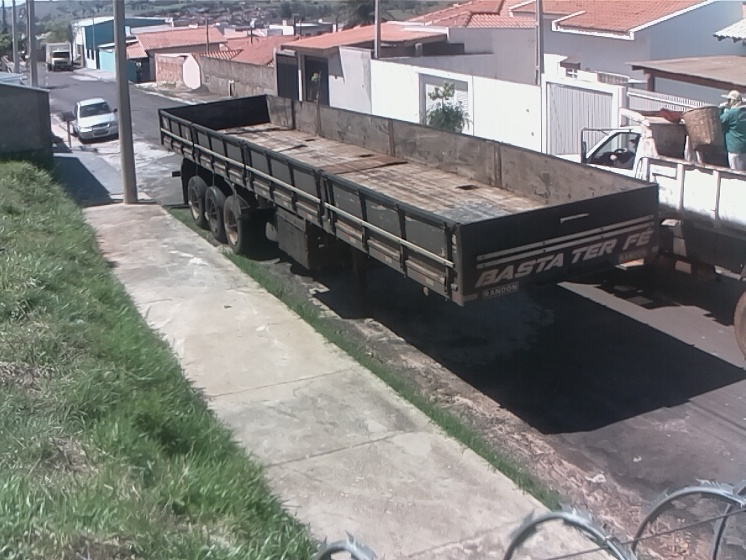person: (721, 88, 746, 175)
